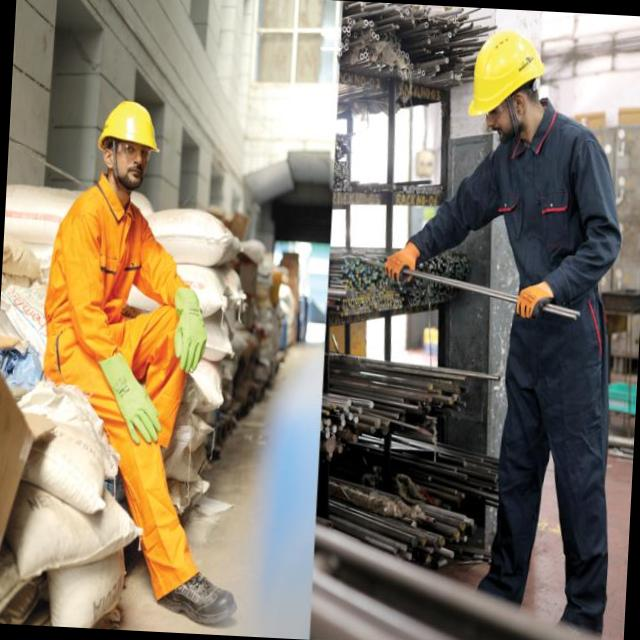Gloves: (95, 350, 167, 448), (168, 285, 210, 376), (380, 239, 442, 291), (504, 274, 562, 326)
Helmet: (456, 22, 558, 121), (95, 101, 166, 152)
